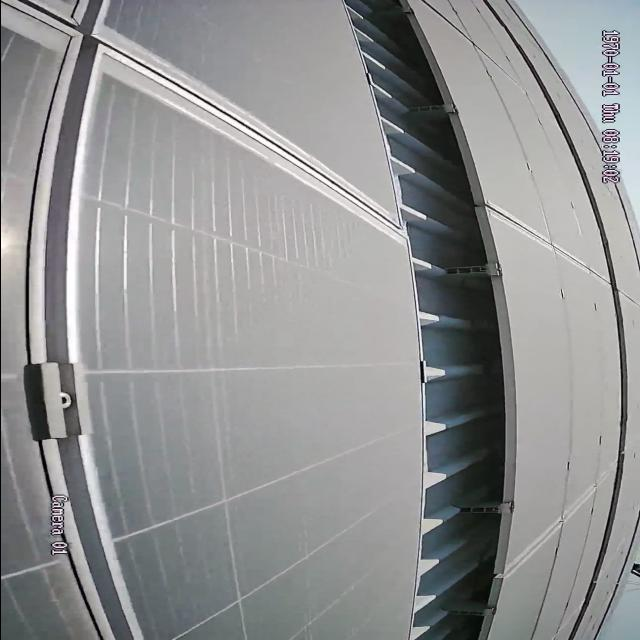interior panel: (0, 0, 379, 627), (507, 462, 611, 579), (493, 207, 600, 284)
outher panel: (340, 1, 506, 640)
